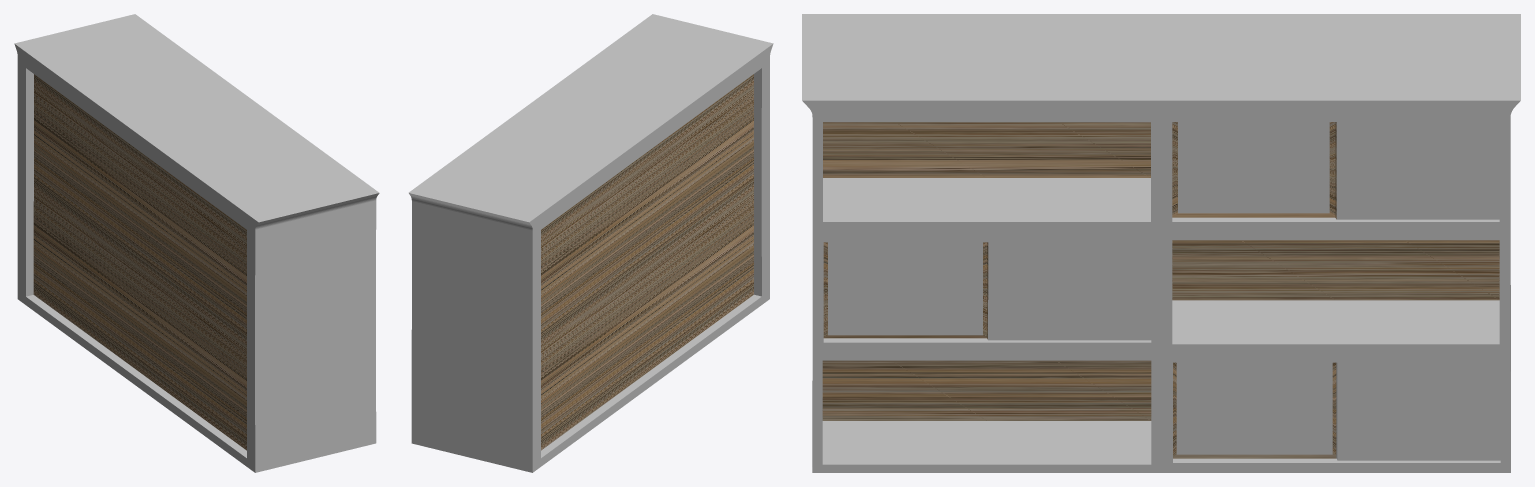
The model's file is GamesRoomBookshelves V0.2.3.fbx.
3 renders of one model, left to right at view 1: azimuth 30°, elevation 25°; view 2: azimuth 150°, elevation 25°; view 3: azimuth 270°, elevation 25°, orthographic. The views are drawn at different scales.
Parts seen in each view (by area): view 1: Shelf; view 2: Shelf; view 3: Shelf.
Boxes of the visible parts, x1,y1,x2,y2 form: Shelf: [14, 14, 379, 472]; Shelf: [408, 14, 773, 472]; Shelf: [802, 14, 1520, 472].
Bounding box in the file's own units: 100 × 200 × 350.
